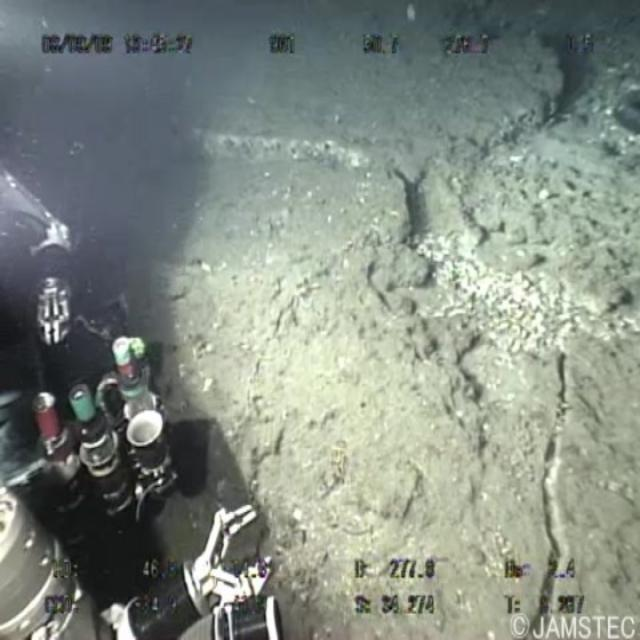Rubber: (571, 46, 640, 198)
